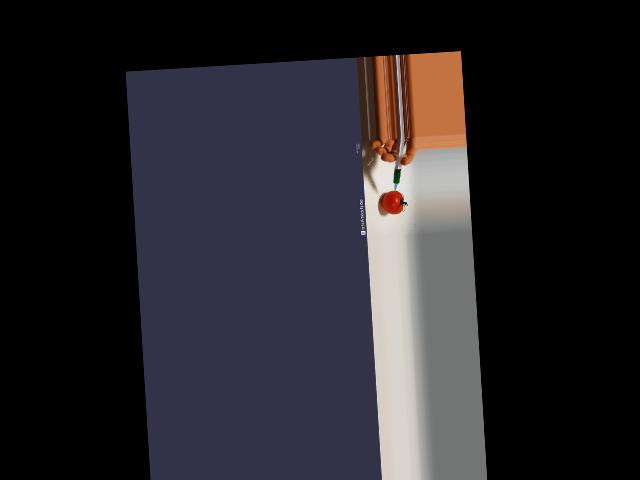tomato: (381, 189, 403, 214)
